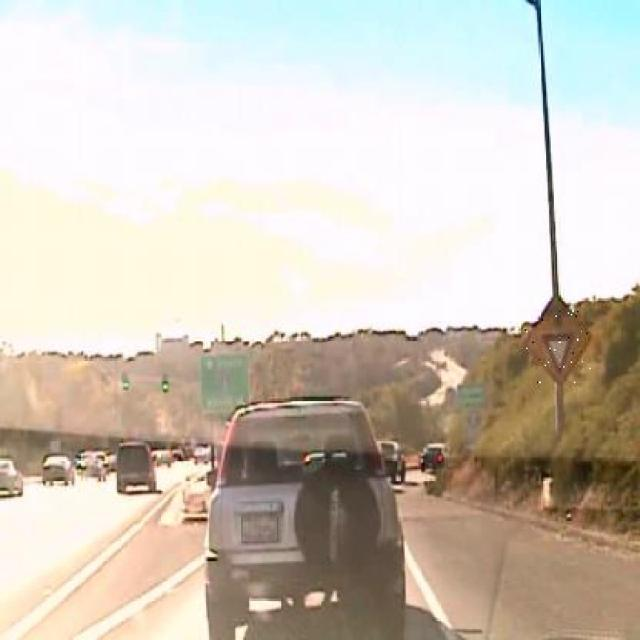yieldAhead: (525, 292, 592, 384)
